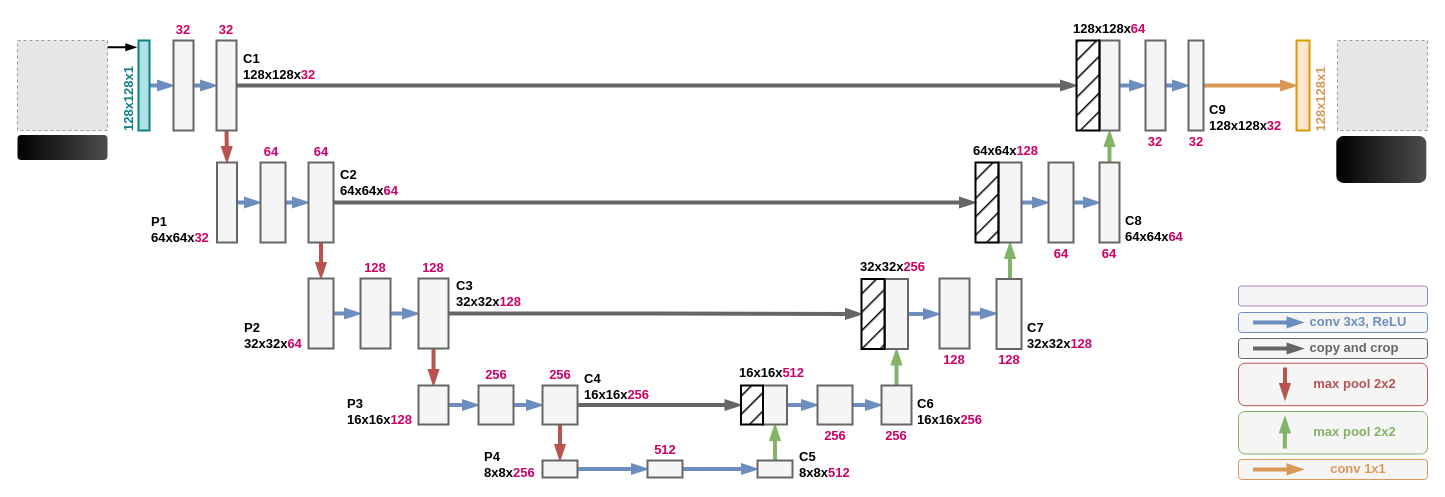
This 1445x497 diagram has some shape labels left out. Grey dashed boxes stand in for pictures. The shapes that lost their labels are listed below. From the top down, each one's centre as x and y in pixels, then its label:
At [62,147]: "input image".
At [1381,159]: "output segmentation map".
At [1333,295]: "padding = same".
